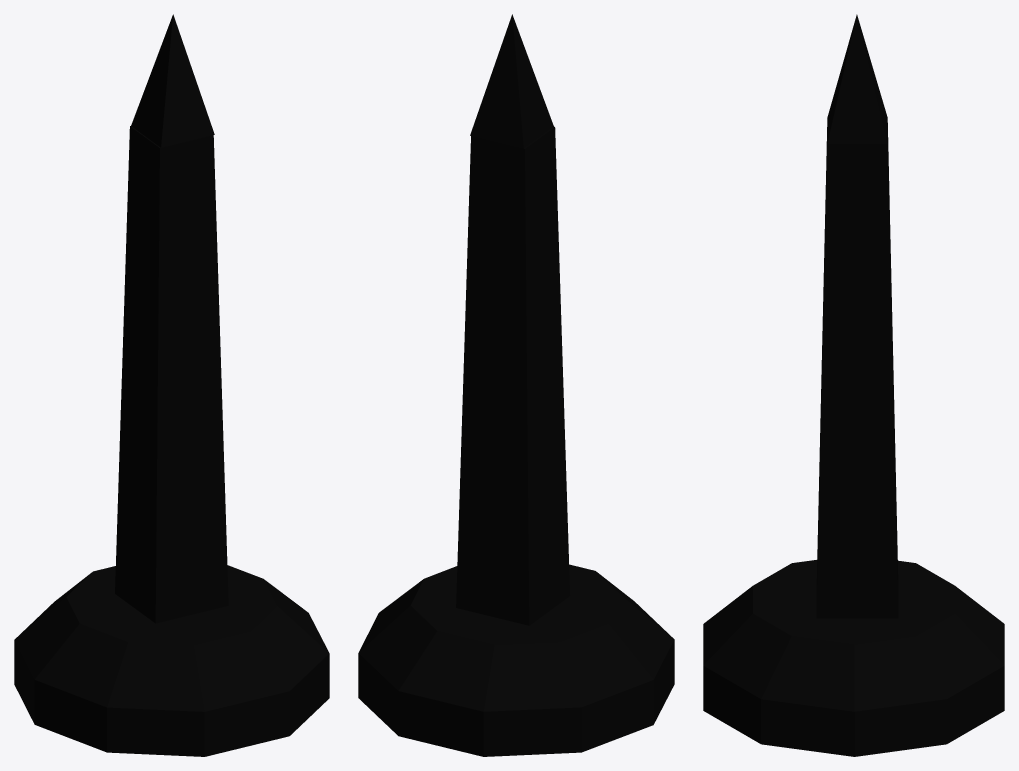
The model's file is Oblisc.glb.
3 renders of one model, left to right at view 1: azimuth 30°, elevation 25°; view 2: azimuth 150°, elevation 25°; view 3: azimuth 270°, elevation 25°, orthographic.
Visible parts, largest first — view 1: Oblisc; view 2: Oblisc; view 3: Oblisc.
Part boxes in pixels (x1=…): Oblisc: x1=14, y1=14, x2=329, y2=756; Oblisc: x1=358, y1=14, x2=674, y2=756; Oblisc: x1=703, y1=14, x2=1004, y2=756.
Size of the model in its own units: 427 by 1007 by 406.
1 material, 1 textured.
